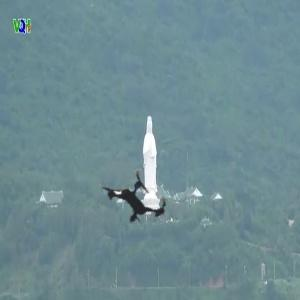drone: (85, 146, 190, 251)
